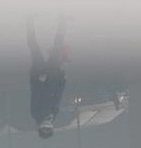person: (21, 14, 73, 138)
